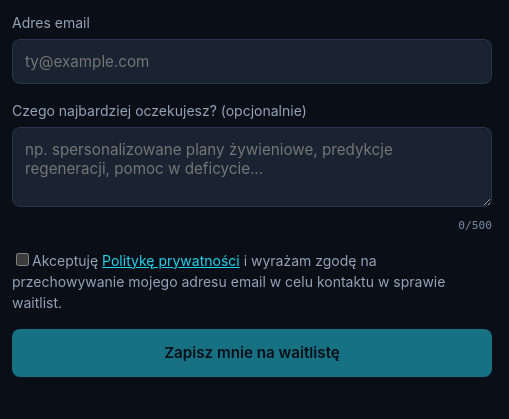
Test case: WaitlistForm › invalid email shows inline error and does NOT submit
Type "notanemail" into the field labelled "Adres email". click: (252, 62)
box: [12,39,492,84]
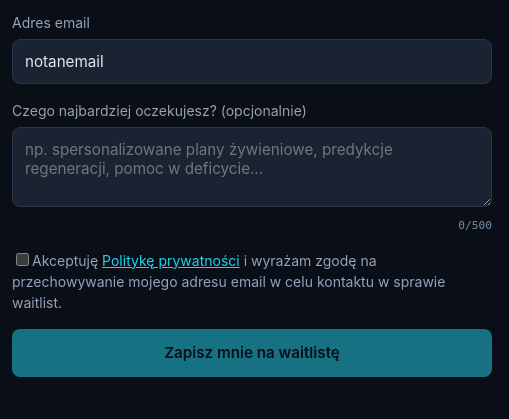
Click the checkbox. click: click(22, 260)
box: [16,253,29,266]
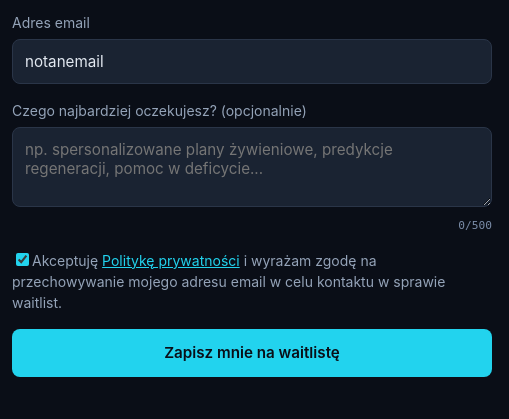
Click the button "Zapisz mnie na waitlistę". click: click(252, 353)
box: [12,329,492,377]
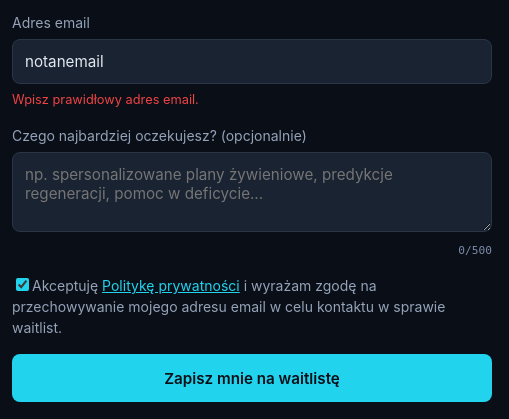
Expected: the text "Wpisz prawidłowy adres email." is shown, [12,92,199,107]
